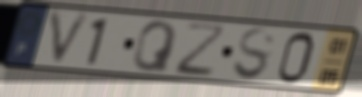0: (275, 30, 318, 86)
1: (86, 17, 113, 67)
Q: (130, 19, 180, 74)
S: (230, 27, 278, 84)
V: (47, 8, 95, 70)
Z: (173, 22, 229, 79)
